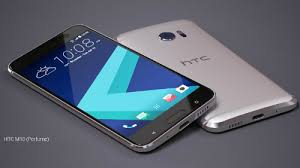htc: (4, 20, 216, 168), (119, 14, 296, 130)
